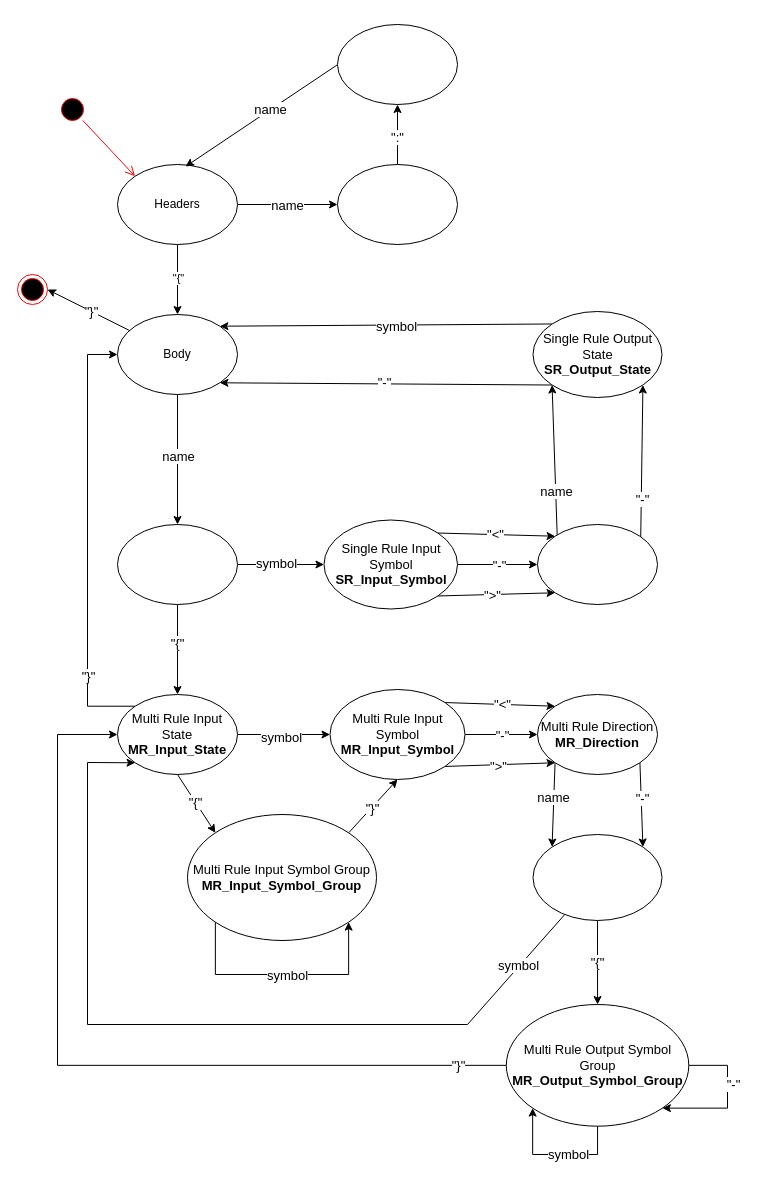
Some shapes in this 758 by 1180 pixel diagram are drawn without their labels. The box of each missing label's shape, as (x1, y1, x2, y2) in pixels:
Header Name H_Name: (336, 164, 458, 244)
Header Value H_Value: (336, 24, 458, 104)
Multi Rule Output State MR_Output_State: (532, 834, 662, 920)
Rule Input State R_Input_State: (116, 524, 238, 604)
Single Rule Direction SR_Direction: (536, 524, 658, 604)
